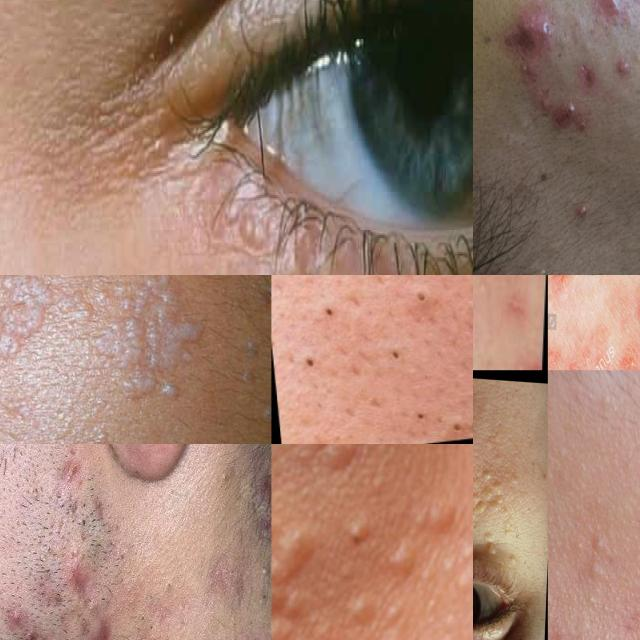acne_scars: (83, 607, 115, 640)
comedone: (289, 283, 363, 340), (578, 526, 614, 590), (301, 336, 335, 390), (377, 332, 415, 371), (441, 395, 473, 438), (407, 403, 430, 444), (581, 32, 598, 66), (411, 286, 434, 310), (549, 622, 576, 640), (463, 289, 473, 332)
crystanlline: (502, 2, 559, 62), (541, 97, 590, 151)
milium: (231, 214, 271, 249), (189, 265, 233, 275)
papule: (598, 0, 628, 28)
pustule: (566, 193, 600, 229)
syringoma: (73, 275, 220, 411), (271, 444, 359, 640), (0, 275, 73, 372), (437, 444, 473, 517), (226, 326, 264, 394), (247, 258, 348, 275), (253, 388, 271, 444), (473, 467, 504, 498), (473, 497, 512, 521), (479, 532, 502, 558), (507, 552, 518, 566)
